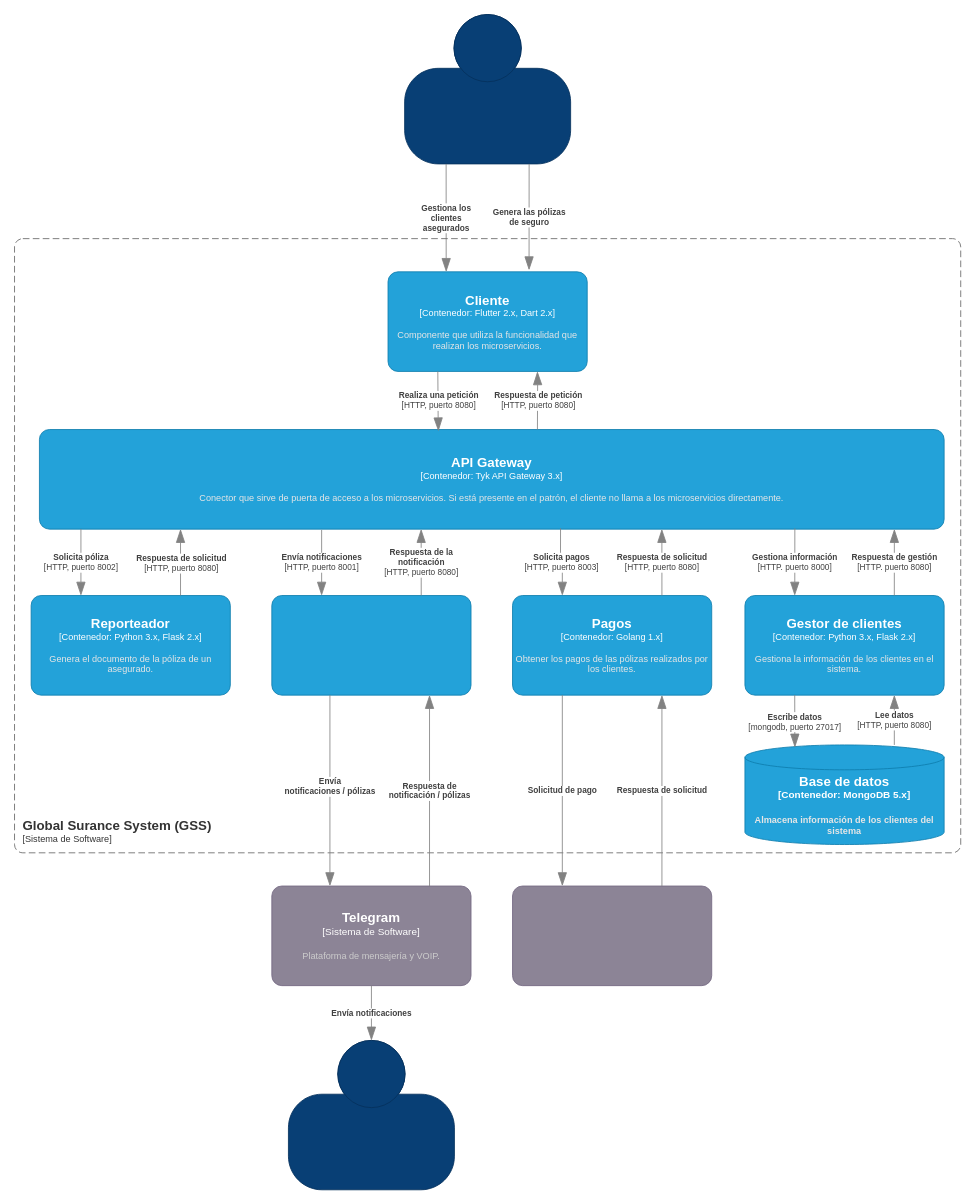
This 975x1204 diagram has some shape labels left out. Each missing label, with the centre of its shape:
Agente de seguros [Persona] Intermediario entre aseguradora y asegurado.: pixel 487 89
Asegurado [Persona] Cliente de la aseguradora.: pixel 371 1115
Notificador [Contenedor: Python 3.x] Enviar notificaciones de texto y pólizas.: pixel 371 645
Openpay [Sistema de Software] Procesador de servicios de pago.: pixel 612 935
